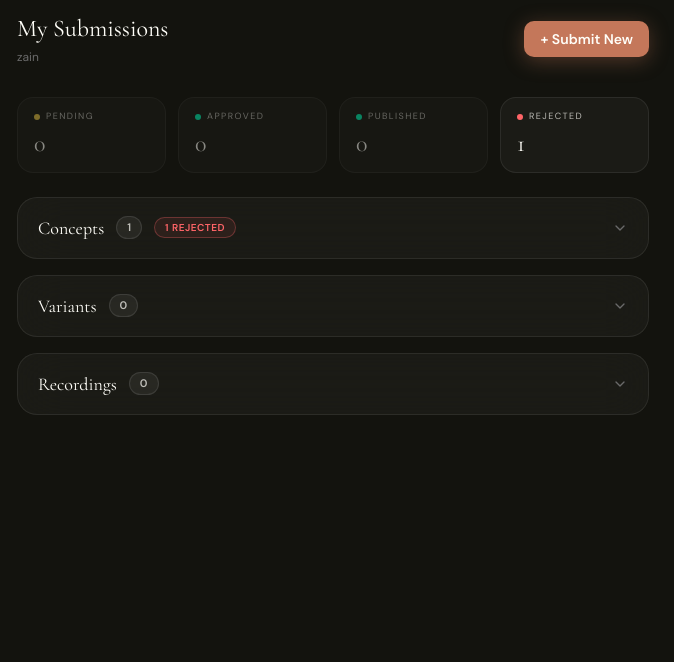
MySubmissions page — filters and pagination › tells me when filters match nothing
The width and height of the screenshot is (674, 662).
Click the button "Concepts 1 1 rejected" at (71, 228), box x1=18 y1=198 x2=648 y2=258
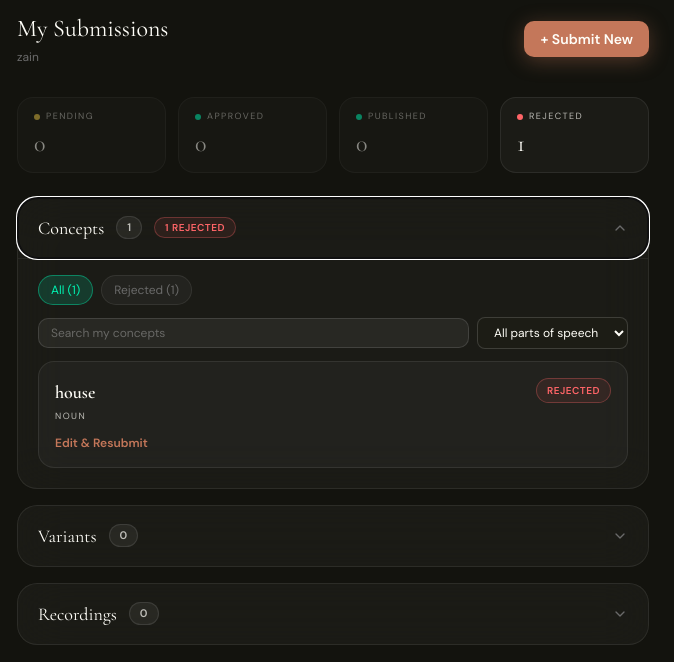
Click the button "Rejected (1)" at (147, 290), box x1=101 y1=274 x2=192 y2=304
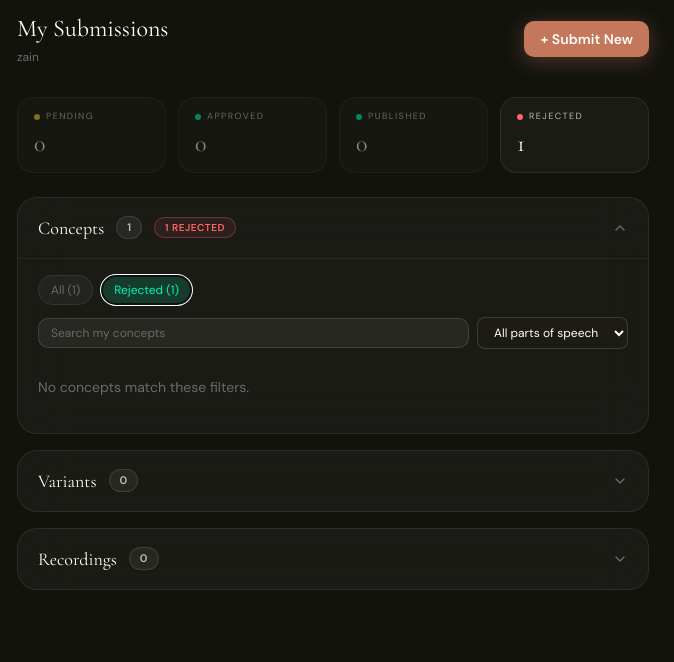
Check: the text "No concepts match these filters." is shown, box x1=38 y1=378 x2=249 y2=396
